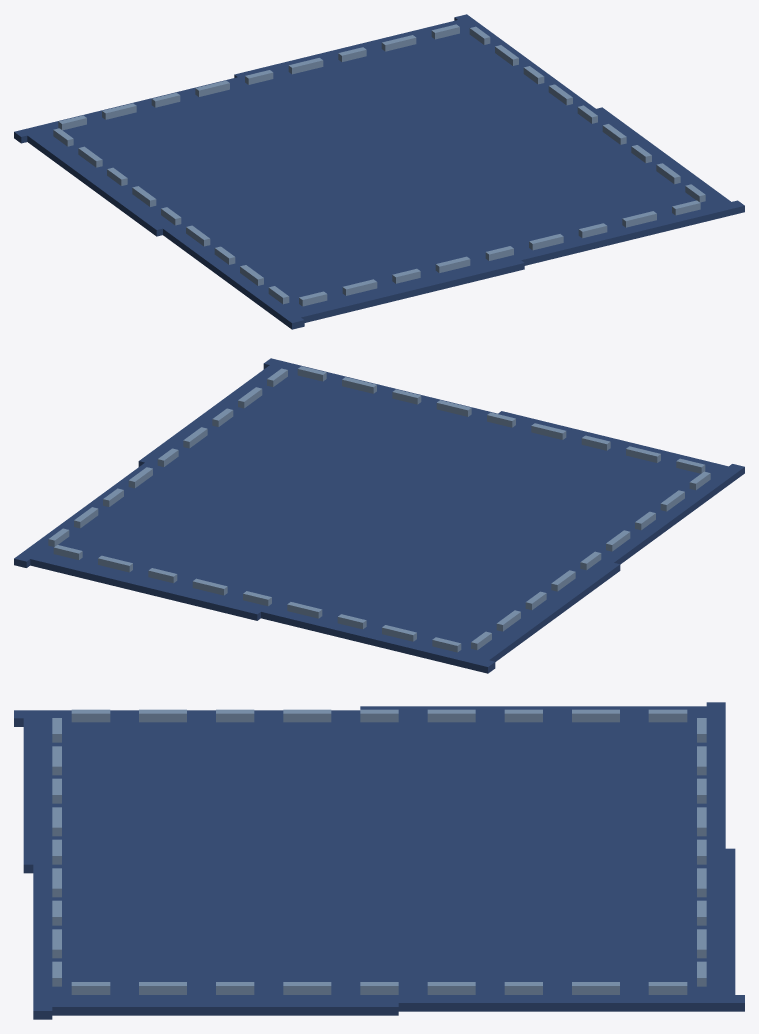
The model's file is denim_patch.glb.
3 views of the same model, one above another, from view 1: azimuth 30°, elevation 25°; view 2: azimuth 150°, elevation 25°; view 3: azimuth 270°, elevation 25° (orthographic). The views are drawn at different scales.
Visible parts, largest first — view 1: denim_patch:compound; view 2: denim_patch:compound; view 3: denim_patch:compound.
Part boxes in pixels (x1,y1,x2,y2): denim_patch:compound: [14, 14, 744, 329]; denim_patch:compound: [14, 358, 744, 673]; denim_patch:compound: [14, 702, 744, 1019].
Size of the model in its own units: 0.152 by 0.004 by 0.152.
